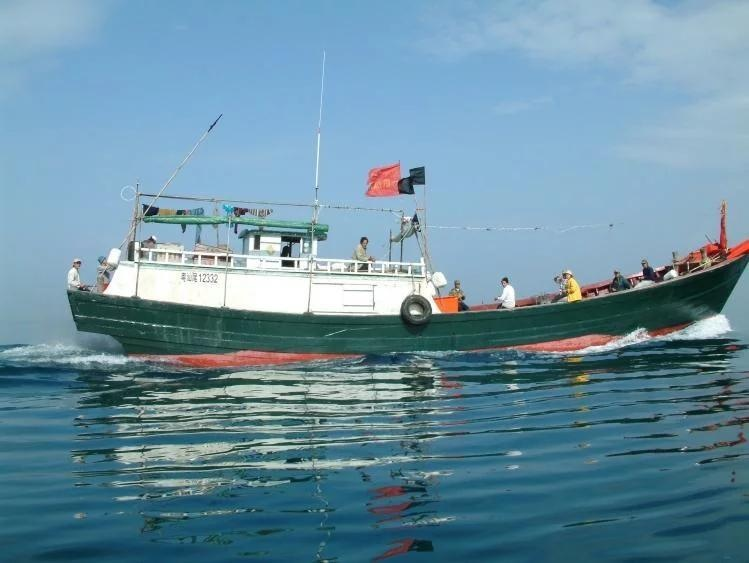otherboat: (57, 170, 749, 358)
